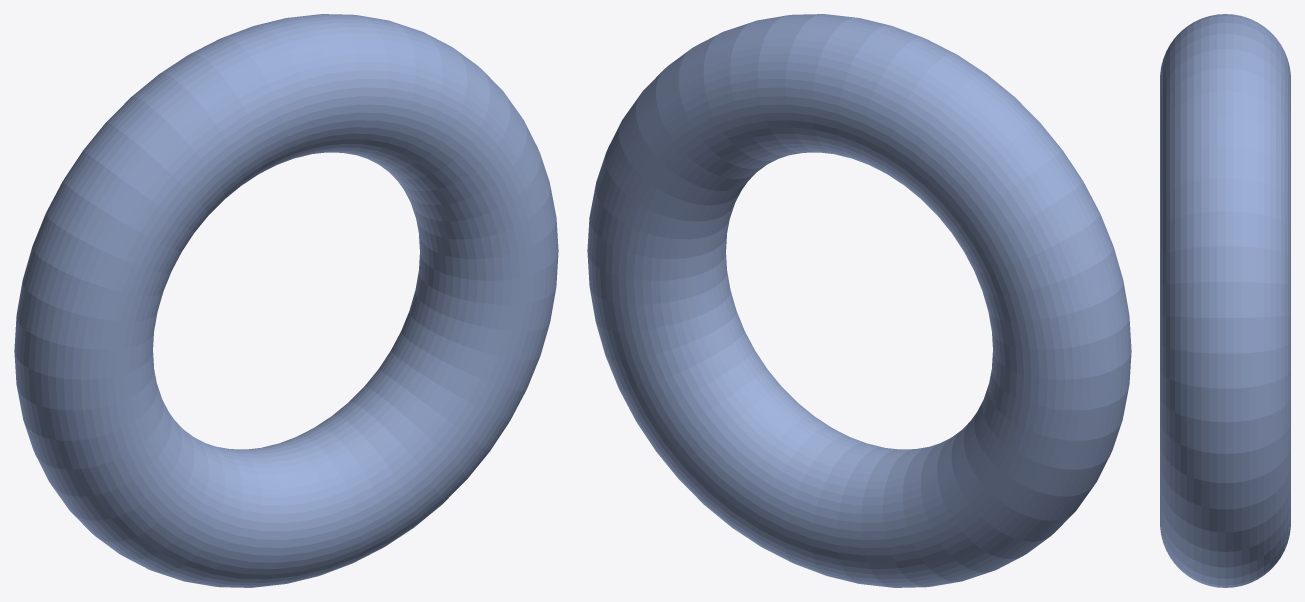
The picture shows the model from 3 angles, left to right: view 1: azimuth 30°, elevation 25°; view 2: azimuth 150°, elevation 25°; view 3: azimuth 270°, elevation 25°; orthographic projection. The views are drawn at different scales.
Parts seen in each view (by area): view 1: world; view 2: world; view 3: world.
Part boxes in pixels (left/top/right/bottom): world: left=14, top=14, right=558, bottom=587; world: left=587, top=14, right=1131, bottom=587; world: left=1160, top=14, right=1290, bottom=587.
Size of the model in its own units: 21.6 by 21.56 by 4.92.
